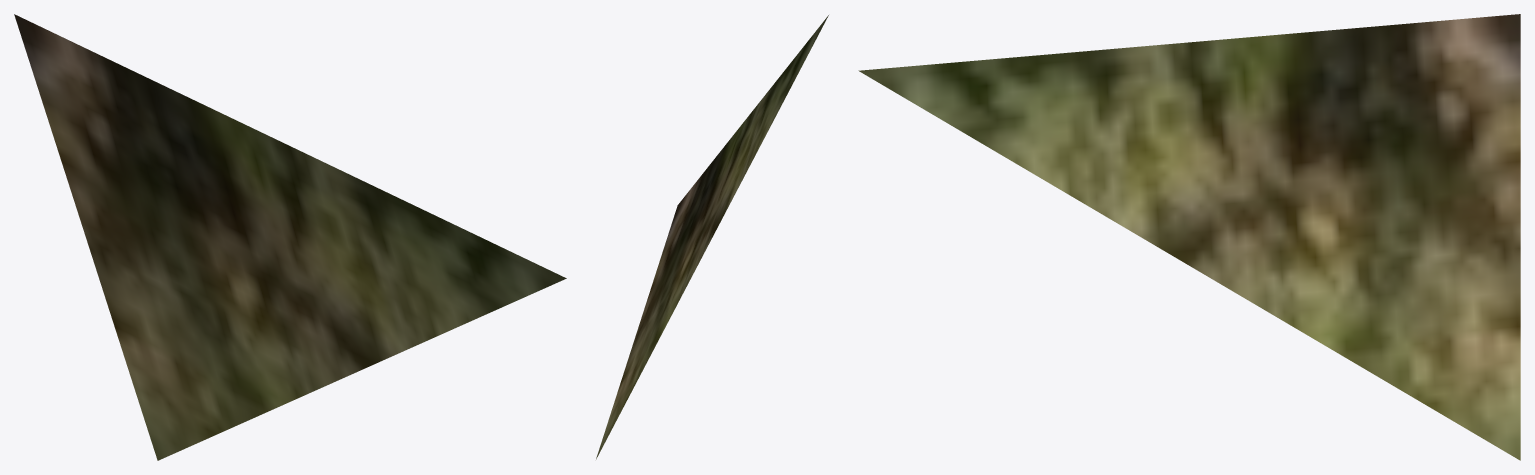
3 renders of one model, left to right at view 1: azimuth 30°, elevation 25°; view 2: azimuth 150°, elevation 25°; view 3: azimuth 270°, elevation 25°, orthographic. The views are drawn at different scales.
Bounding box in the file's own units: 0.1735 × 0.5562 × 0.8559.
Materials: 1 (1 with a texture image).
